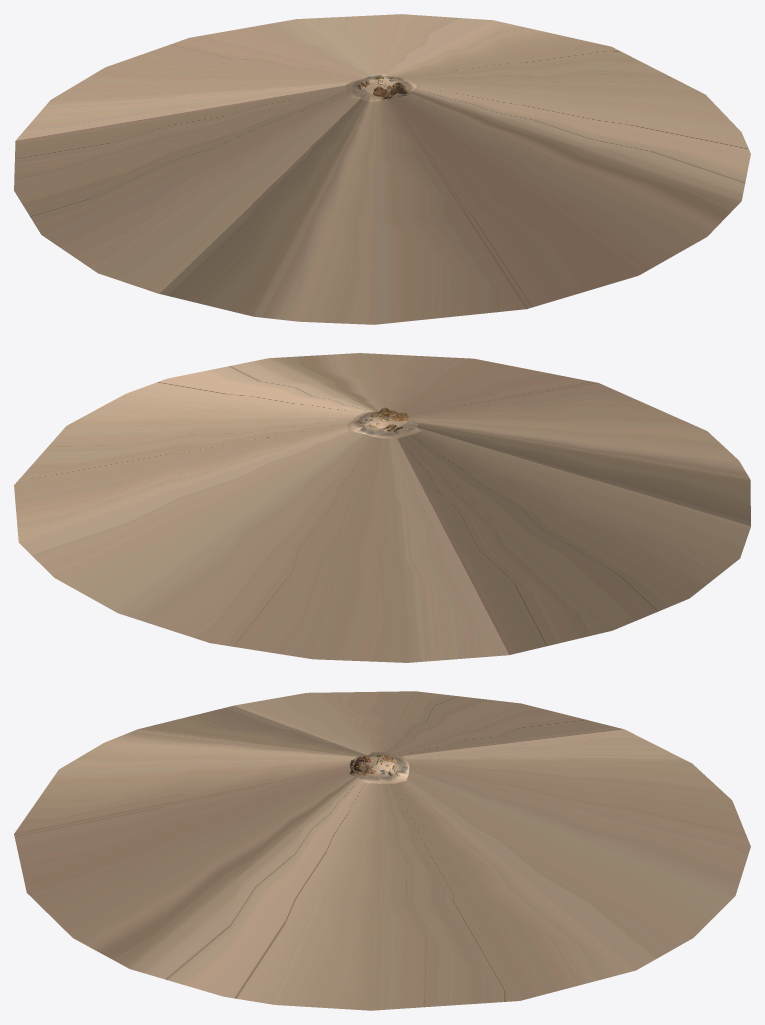
The model's file is tropical-island.glb.
3 renders of one model, top to bottom at view 1: azimuth 30°, elevation 25°; view 2: azimuth 150°, elevation 25°; view 3: azimuth 270°, elevation 25°, orthographic.
Parts seen in each view (by area): view 1: Beach_44; view 2: Beach_44; view 3: Beach_44.
Part boxes in pixels (x1,y1,x2,y2): Beach_44: (14,14,750,324); Beach_44: (14,353,750,662); Beach_44: (14,691,750,1010).
Bounding box in the file's own units: 619 × 86.13 × 604.
10 materials, 10 textured.
